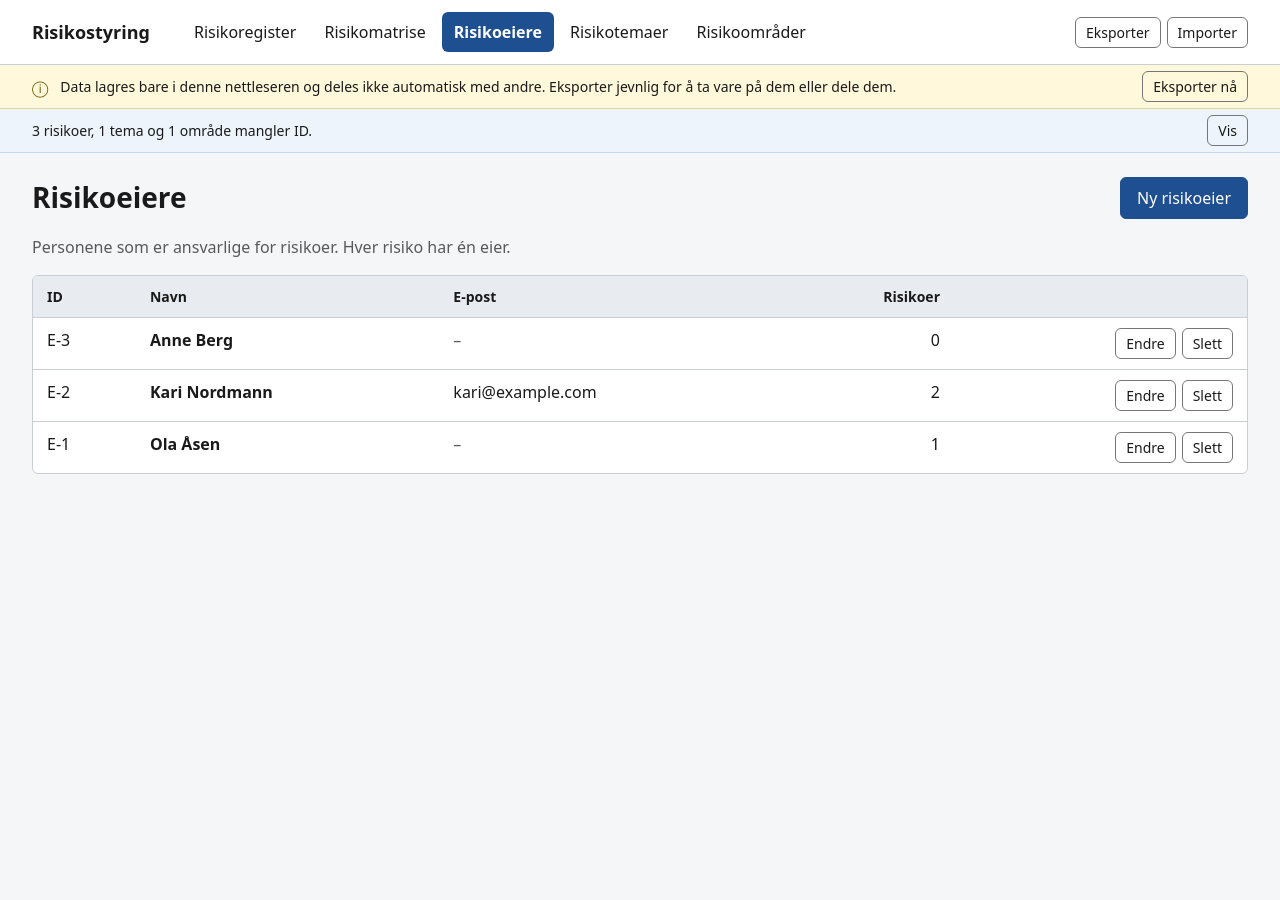
Test case: register over risikoeiere › endrer en eier, med feltene fylt ut på forhånd
expect the heading "Risikoeiere" is shown: met, box [32,181,186,215]
Click the button with aria-label "Endre Kari Nordmann". click: (1145, 396)
box: [1115,380,1176,411]
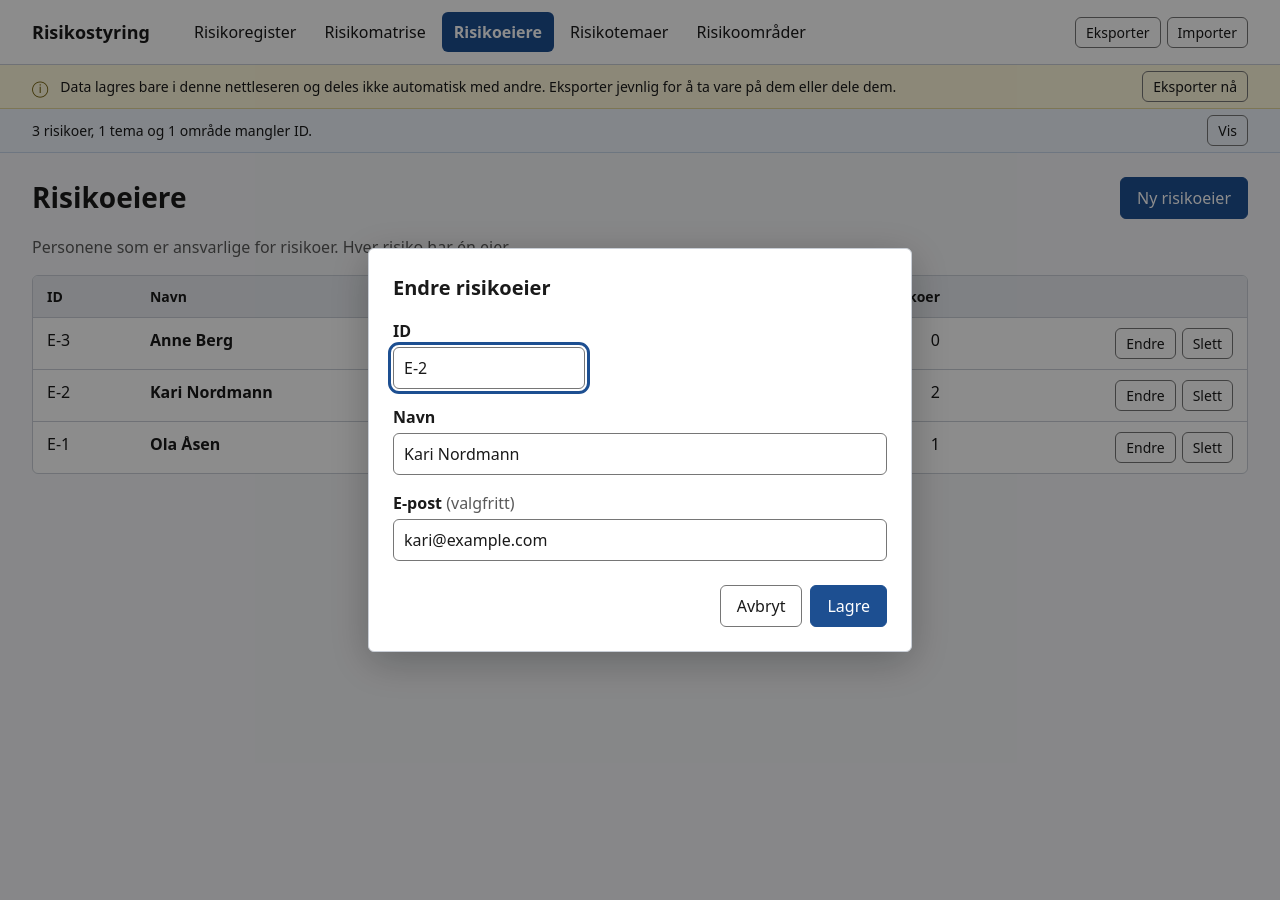
expect the field labelled "Navn" holds "Kari Nordmann": met
expect the field labelled "E-post (valgfritt)" holds "kari@example.com": met, box [393,519,887,561]
Replace the text in the field labelled "Navn" with "Kari Hansen". click: (640, 454)
box: [393,433,887,475]
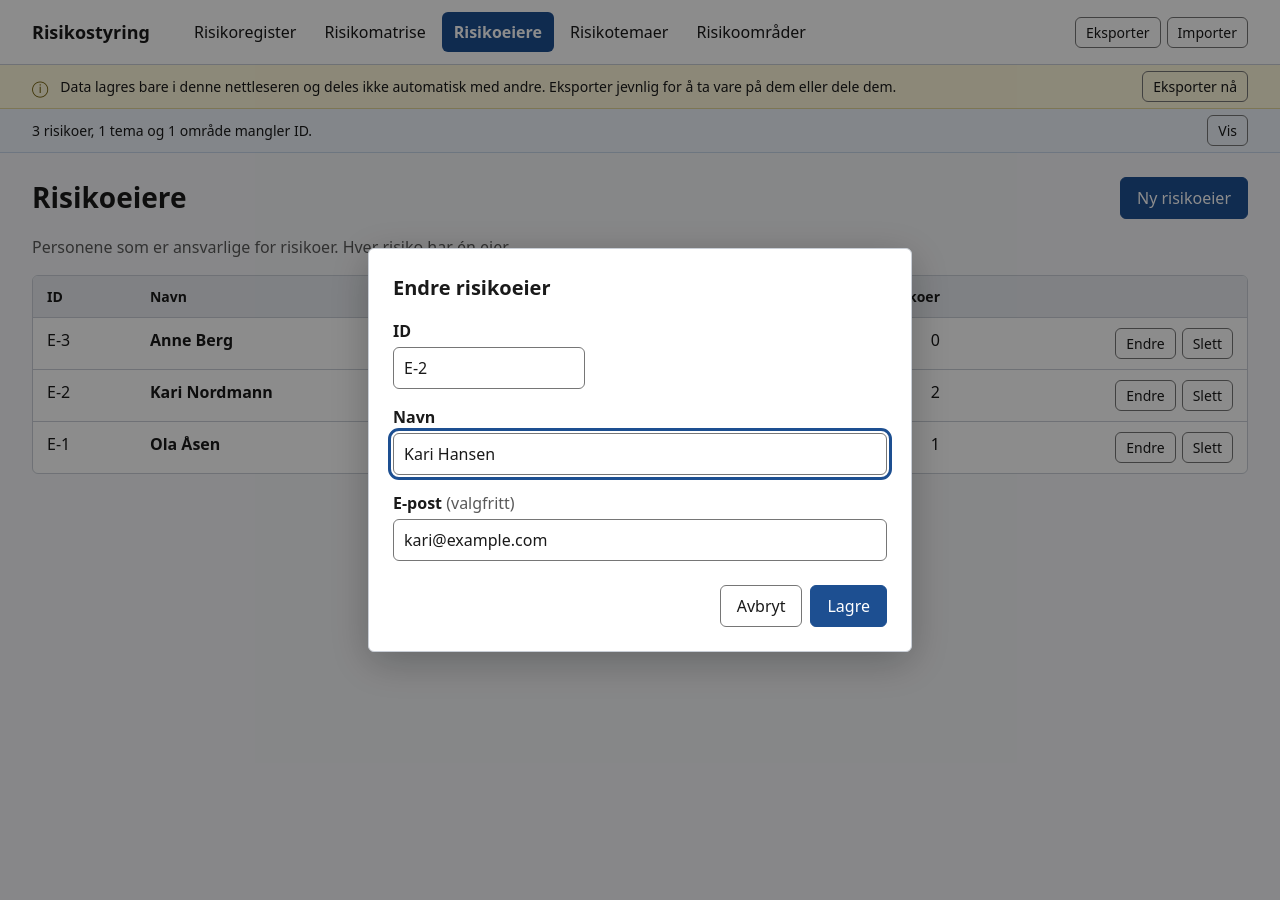
Clear the field labelled "E-post (valgfritt)". click: (640, 540)
box: [393,519,887,561]
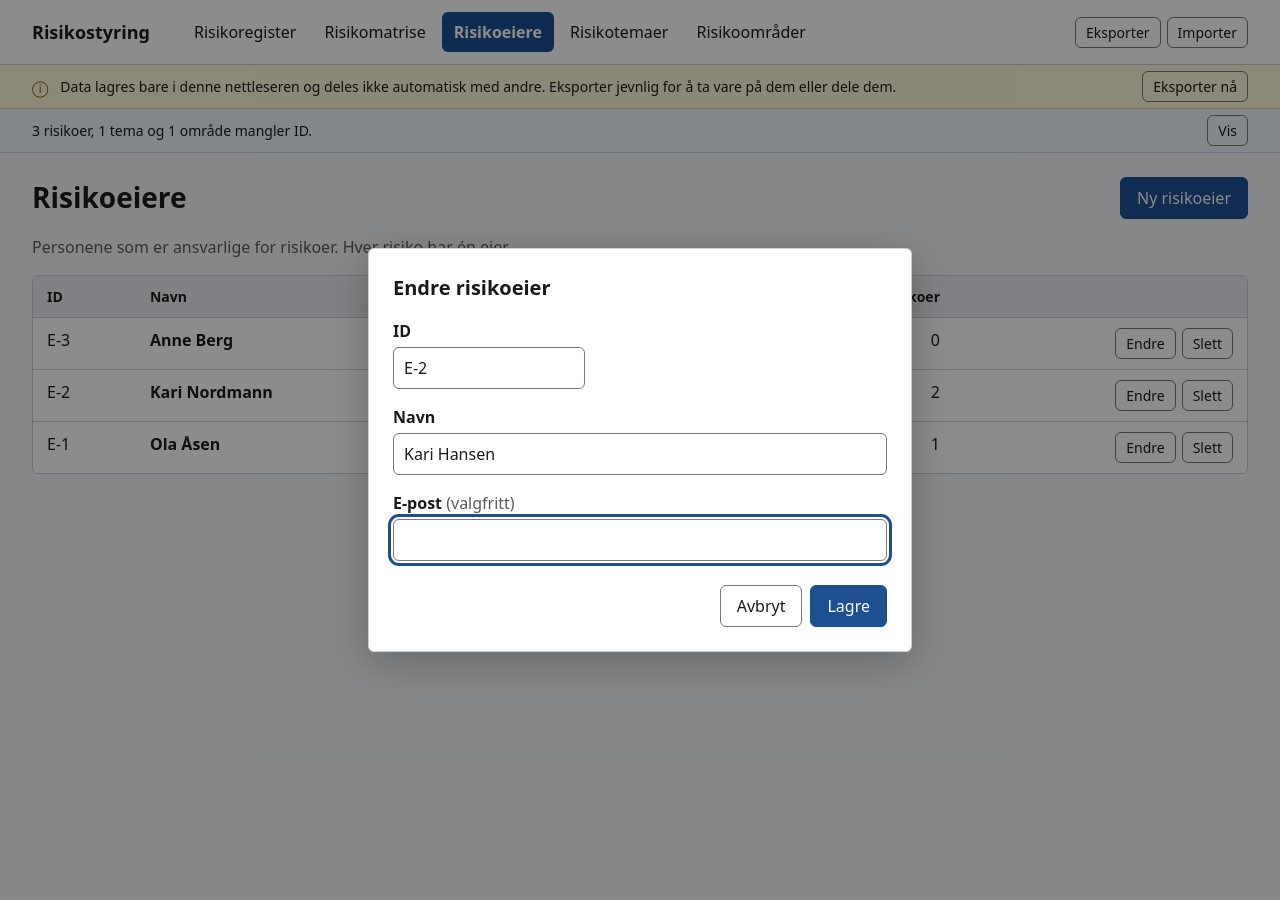
Click the button "Lagre". click: (849, 606)
box: [810,585,887,627]
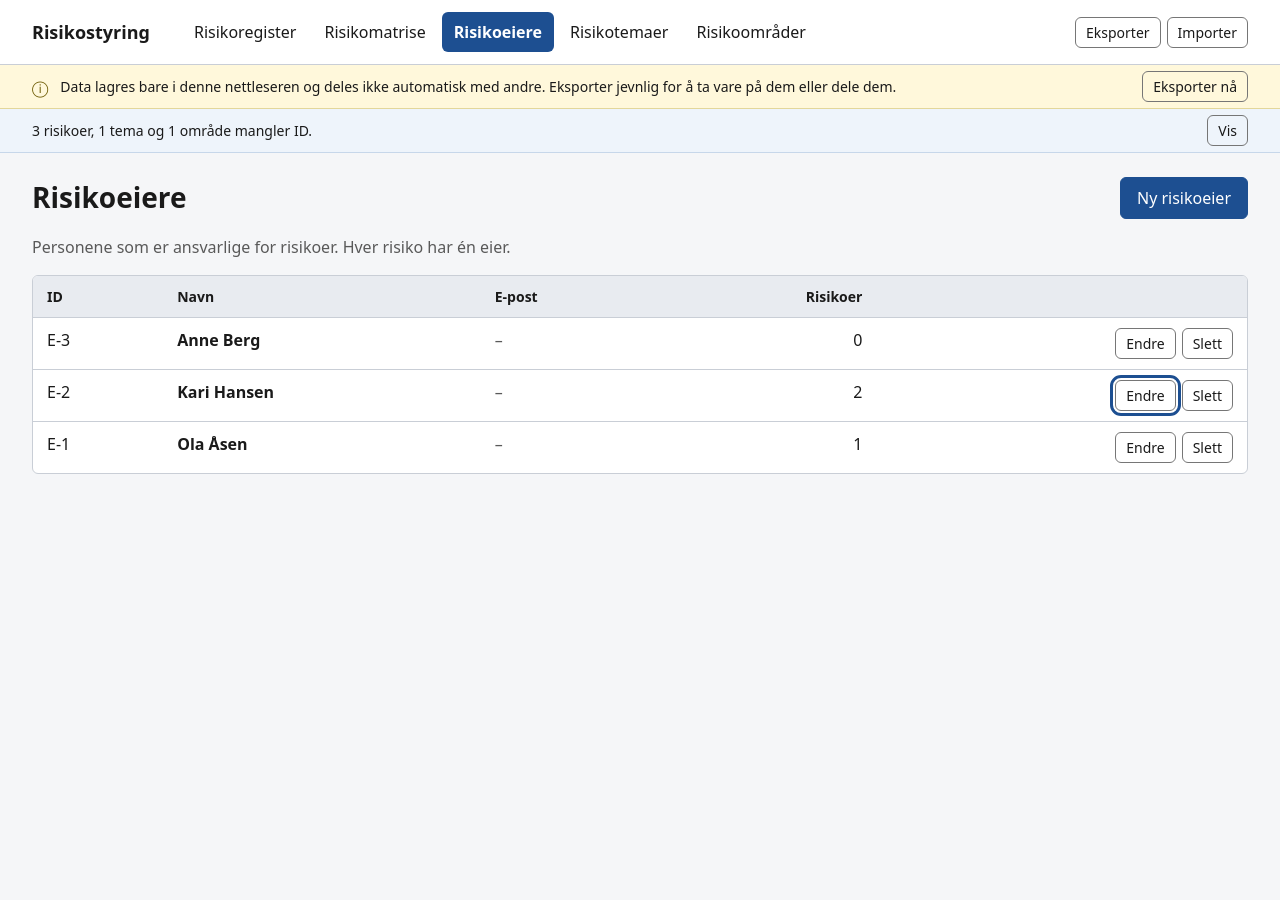
expect the column heading "Kari Hansen" is shown: met, box [163,370,481,422]
expect the column heading "Kari Nordmann" is gone: met
